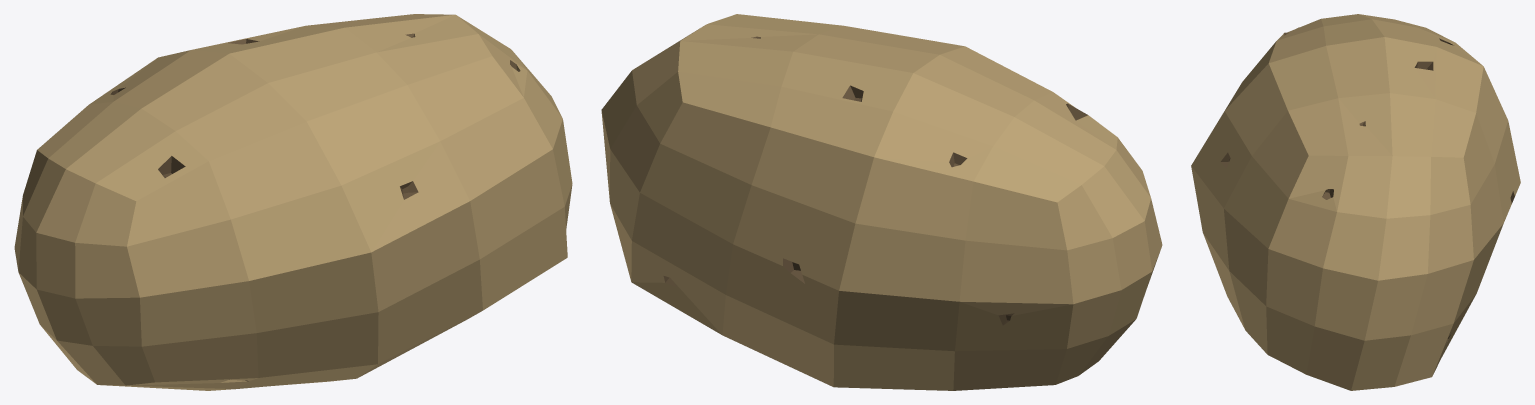
The model's file is Patato.fbx.
The picture shows the model from 3 angles, left to right: view 1: azimuth 30°, elevation 25°; view 2: azimuth 150°, elevation 25°; view 3: azimuth 270°, elevation 25°; orthographic projection. The views are drawn at different scales.
Visible parts, largest first — view 1: Cube; view 2: Cube; view 3: Cube.
Boxes of the visible parts, bbox=[...] form: Cube: bbox=[14, 14, 572, 390]; Cube: bbox=[601, 14, 1162, 390]; Cube: bbox=[1191, 14, 1520, 390].
Bounding box in the file's own units: 419 × 243 × 250.
